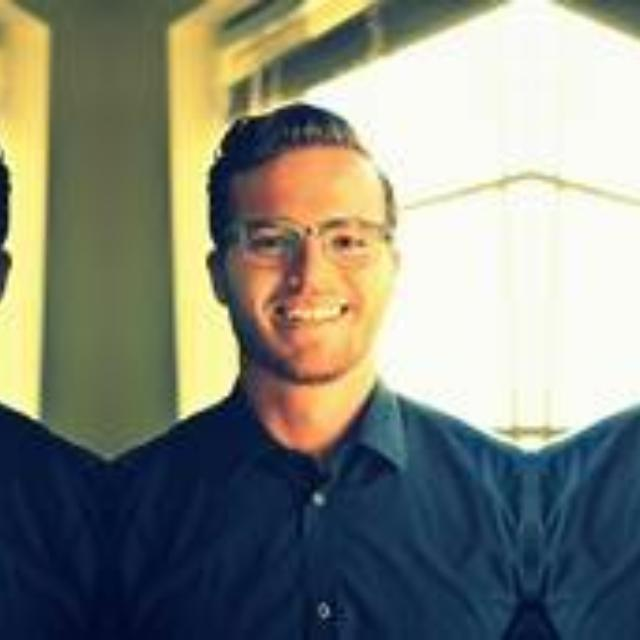person: (108, 90, 530, 640), (530, 90, 640, 640), (0, 90, 108, 640)
